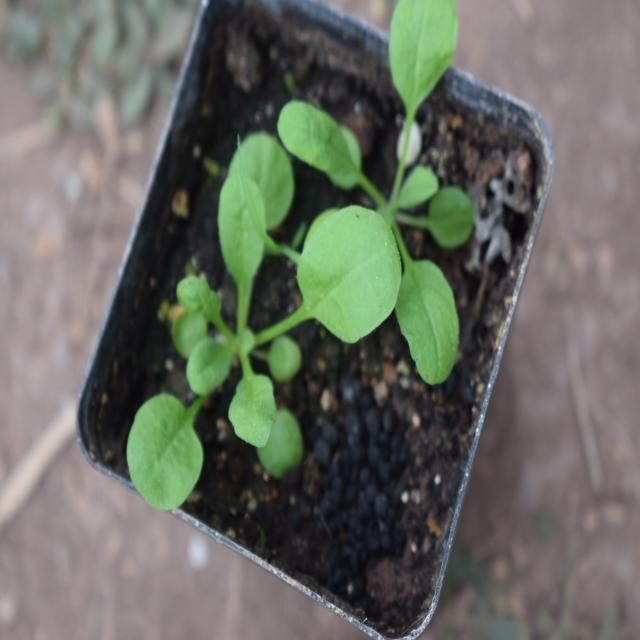Shepherd_Purse: (114, 115, 392, 500), (303, 0, 480, 376)
